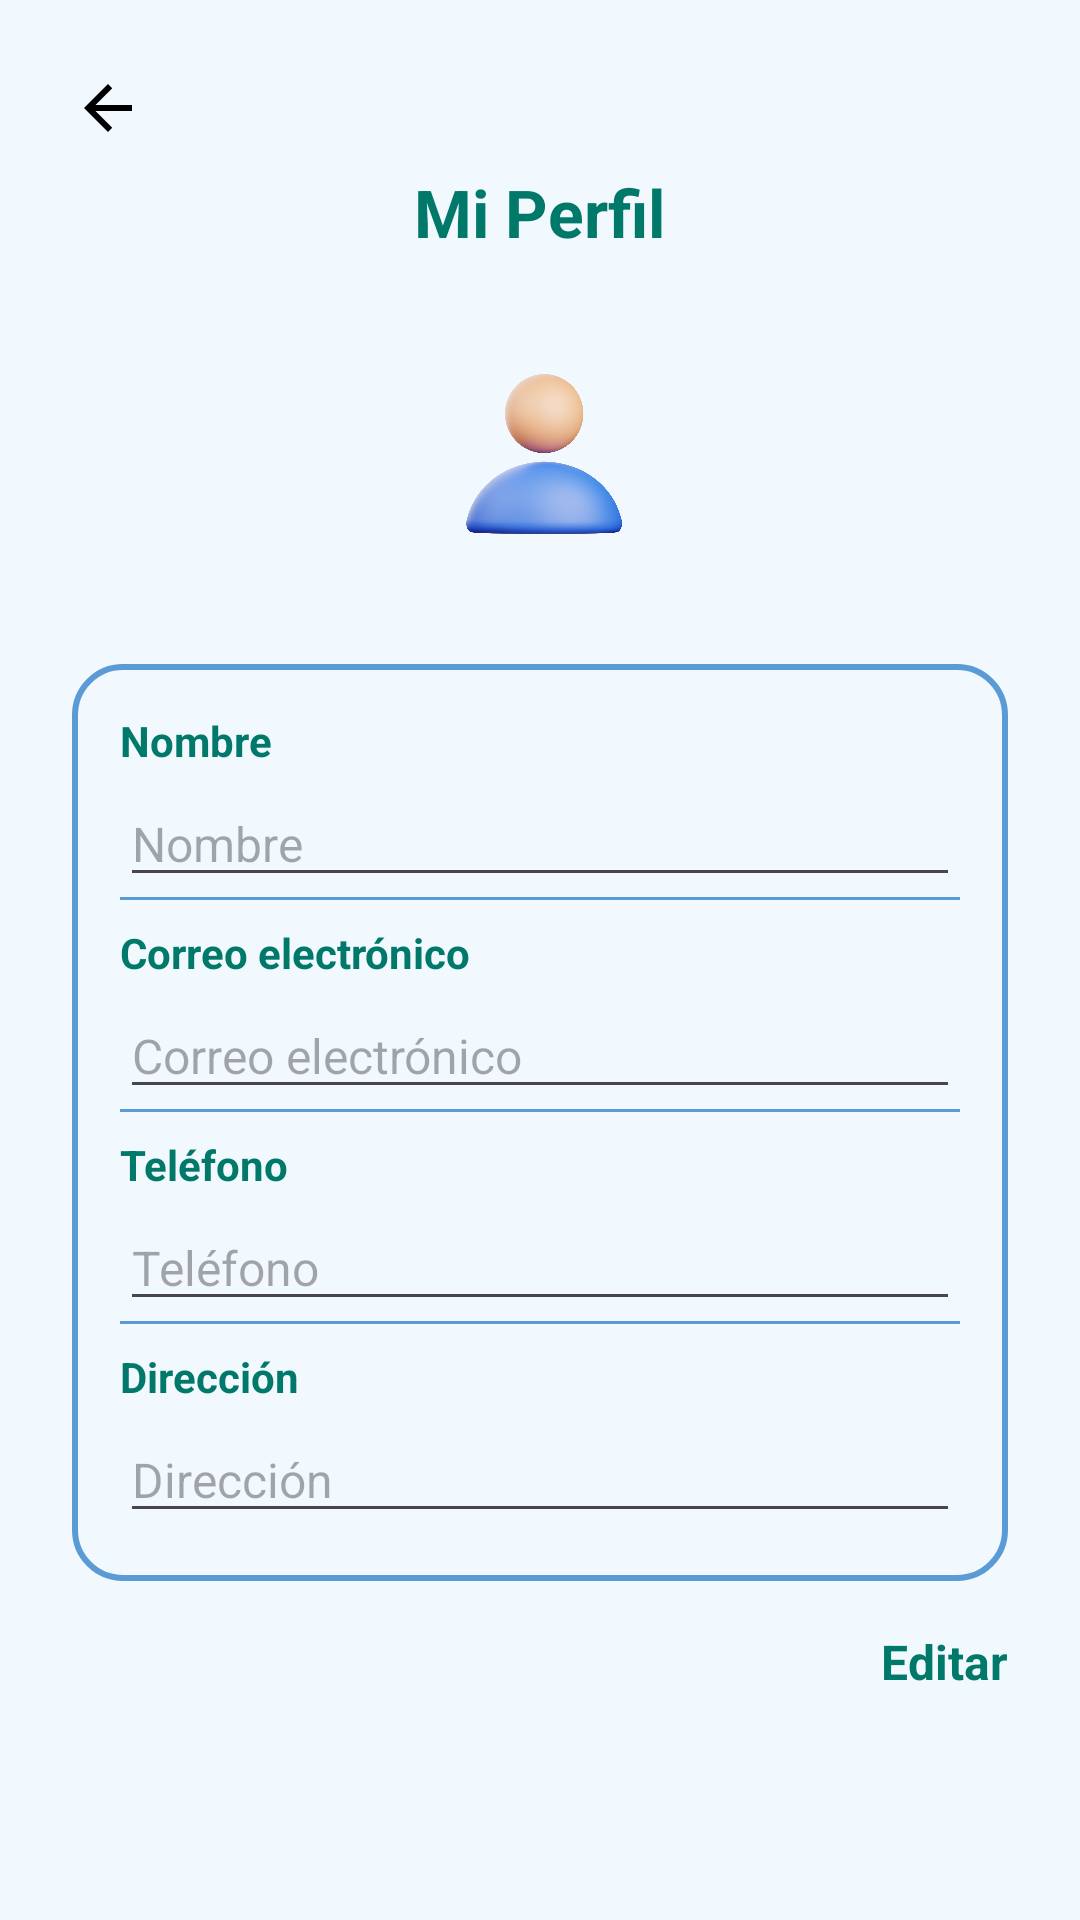

Icons on this 1080px×1920px Android screen, each with the point to tap as (x,y):
Botón de retroceso: (108,108)
Foto Perfil: (544,454)
